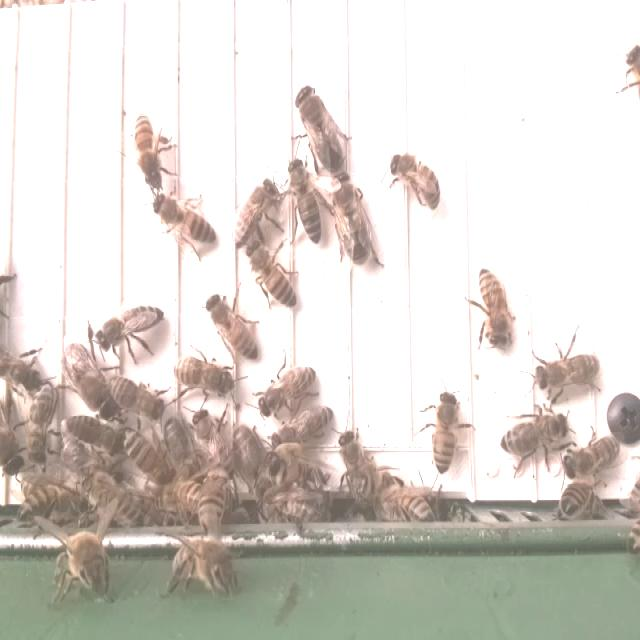Drone: (321, 164, 388, 266), (287, 78, 356, 173), (225, 422, 281, 515), (153, 408, 206, 492)
Worker: (112, 97, 185, 203), (161, 514, 249, 600), (45, 521, 117, 603), (276, 151, 332, 250), (194, 285, 264, 361), (468, 263, 523, 354), (528, 340, 606, 404), (419, 379, 469, 478), (60, 352, 125, 427), (95, 296, 167, 363), (503, 407, 577, 472), (262, 435, 334, 501), (257, 358, 320, 432), (83, 465, 153, 530), (383, 147, 443, 221), (152, 196, 227, 254), (107, 366, 172, 428), (60, 409, 132, 462), (232, 171, 282, 247), (169, 354, 242, 405), (246, 243, 301, 308), (333, 429, 380, 500), (26, 378, 64, 465), (553, 473, 607, 522)
